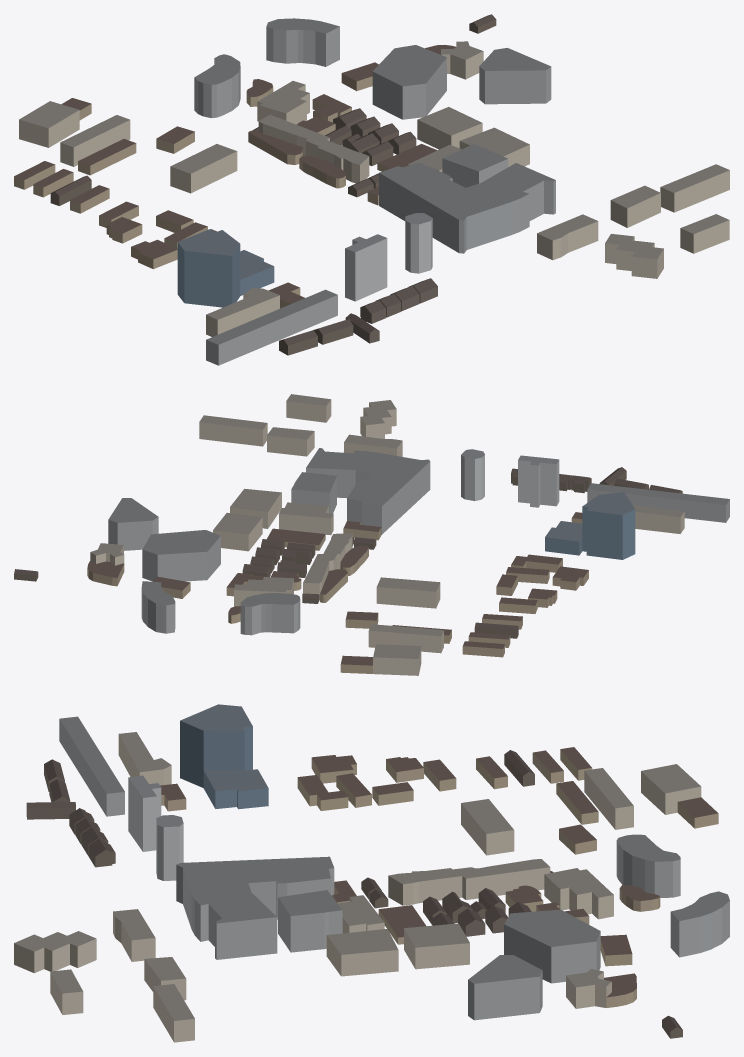
File: tile_3_6.glb
3 views of the same model, one above another, from view 1: azimuth 30°, elevation 25°; view 2: azimuth 150°, elevation 25°; view 3: azimuth 270°, elevation 25° (orthographic). The views are drawn at different scales.
Parts seen in each view (by area): view 1: HP-w435452347, HP-w859467784, HP-w1222703380, HP-w859467780, HP-w1355101921, HP-w372180392, HP-w435452361, HP-w1319821071, HP-w372180396, HP-w372180438, HP-w372180506, HP-w1287262149 (+29 smaller); view 2: HP-w435452347, HP-w859467784, HP-w1222703380, HP-w859467780, HP-w372180396, HP-w1319821071, HP-w1355101921, HP-w372180438, HP-w1287262149, HP-w372180444, HP-w372180392, HP-w435452345 (+27 smaller); view 3: HP-w435452347, HP-w859467784, HP-w1222703380, HP-w435452361, HP-w1355101921, HP-w435452343, HP-w372180396, HP-w859467780, HP-w372180392, HP-w435452367, HP-w408450630, HP-w435452364 (+35 smaller).
Part boxes in pixels (bbox=[...]): HP-w435452347: bbox=[379, 162, 555, 253]; HP-w859467784: bbox=[177, 229, 274, 307]; HP-w1222703380: bbox=[372, 45, 446, 119]; HP-w859467780: bbox=[206, 289, 337, 365]; HP-w1355101921: bbox=[479, 48, 551, 104]; HP-w372180392: bbox=[266, 18, 339, 66]; HP-w435452361: bbox=[258, 114, 369, 183]; HP-w1319821071: bbox=[345, 234, 387, 301]; HP-w372180396: bbox=[194, 54, 240, 118]; HP-w372180438: bbox=[170, 144, 237, 193]; HP-w372180506: bbox=[19, 101, 79, 147]; HP-w1287262149: bbox=[660, 164, 729, 212]; HP-w435452347: bbox=[306, 448, 430, 534]; HP-w859467784: bbox=[545, 492, 635, 559]; HP-w1222703380: bbox=[142, 530, 220, 581]; HP-w859467780: bbox=[587, 483, 729, 522]; HP-w372180396: bbox=[240, 593, 300, 635]; HP-w1319821071: bbox=[518, 455, 559, 507]; HP-w1355101921: bbox=[108, 498, 158, 550]; HP-w372180438: bbox=[376, 577, 440, 608]; HP-w1287262149: bbox=[199, 415, 267, 446]; HP-w372180444: bbox=[368, 624, 443, 653]; HP-w372180392: bbox=[141, 581, 175, 633]; HP-w435452345: bbox=[279, 502, 333, 535]; HP-w435452347: bbox=[176, 856, 334, 959]; HP-w859467784: bbox=[180, 704, 268, 809]; HP-w1222703380: bbox=[504, 909, 600, 983]; HP-w435452361: bbox=[388, 859, 550, 905]; HP-w1355101921: bbox=[468, 955, 542, 1020]; HP-w435452343: bbox=[278, 890, 342, 952]; HP-w372180396: bbox=[616, 834, 680, 897]; HP-w859467780: bbox=[59, 716, 124, 816]; HP-w372180392: bbox=[670, 891, 729, 957]; HP-w435452367: bbox=[326, 928, 398, 976]; HP-w408450630: bbox=[14, 931, 96, 973]; HP-w435452364: bbox=[404, 923, 469, 969].
Bounding box in the file's own units: 543 × 48 × 541.
